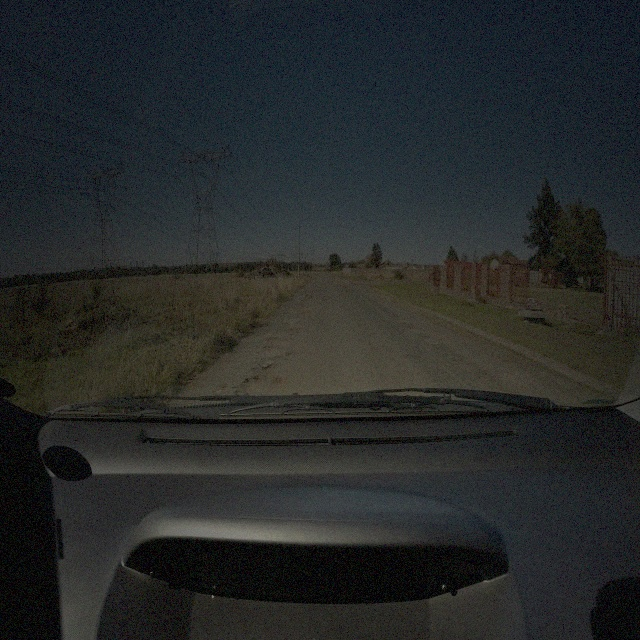pothole: (270, 375, 287, 386), (477, 374, 489, 384), (264, 361, 274, 371), (461, 356, 469, 366), (251, 373, 260, 380), (302, 310, 317, 313), (267, 337, 280, 340)
